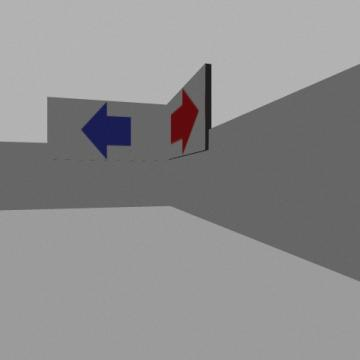blue_left: (82, 103, 130, 158)
red_right: (170, 88, 198, 154)
